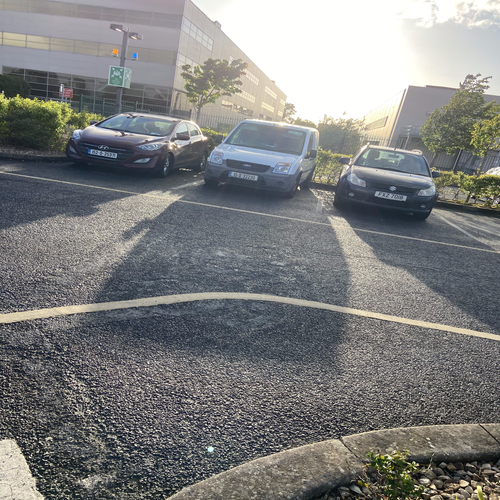Car: (73, 100, 206, 175), (211, 111, 320, 198), (344, 140, 444, 224)
